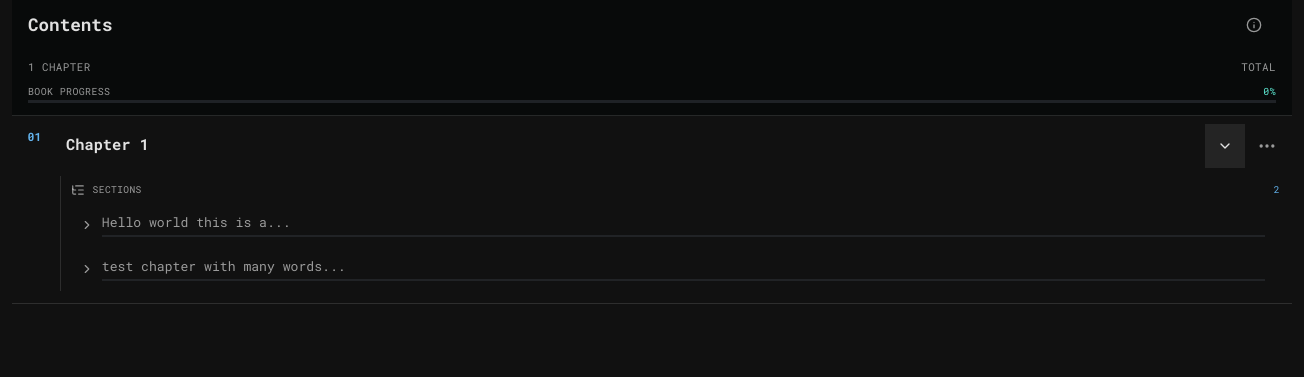
Test case: Sidebar V2 › opens chapter actions without navigating and stages passages in a separate view
Click the button named "More options for Chapter 1": (1267, 146) top-left (1245, 124), bottom-right (1289, 168)
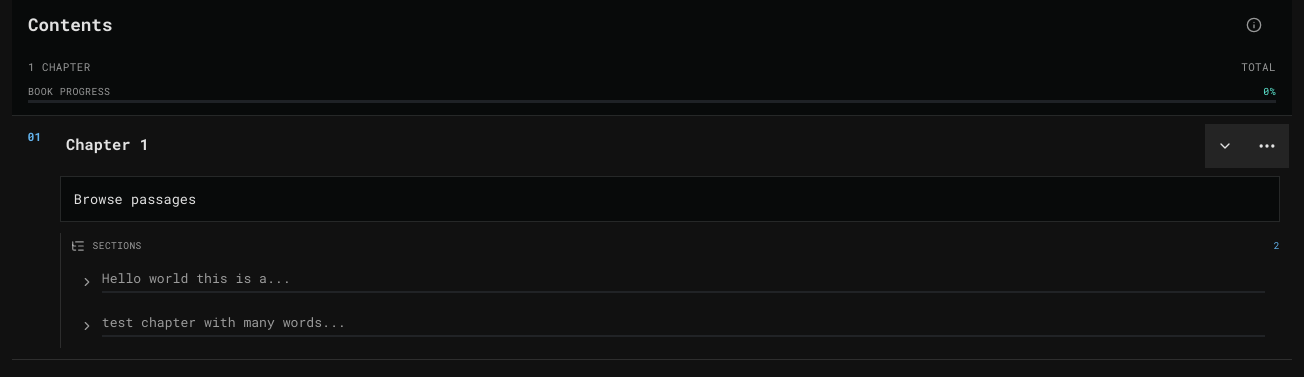
Click the menu item "Browse passages": (135, 199) top-left (61, 177), bottom-right (1279, 221)
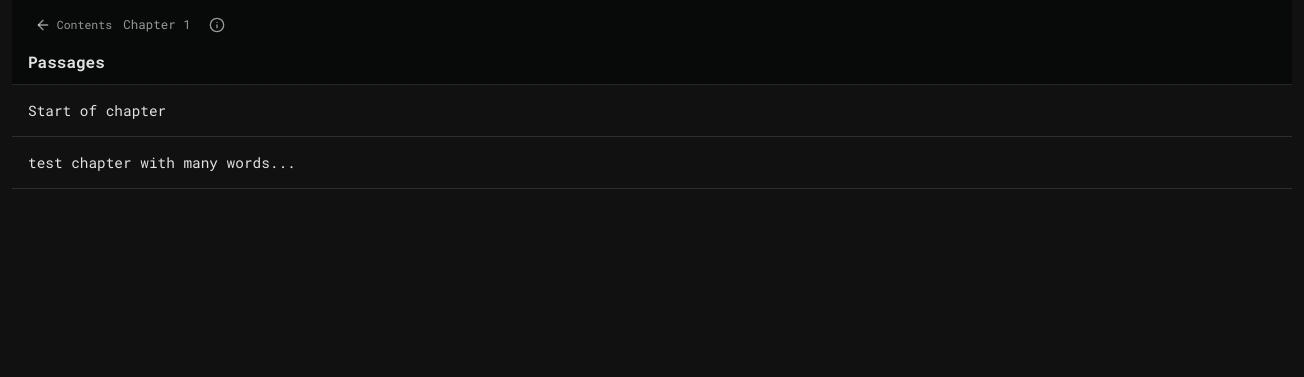
Check: the heading "Passages" is shown, box top-left (28, 51), bottom-right (105, 72)
Check: the button "Start of chapter" is shown, box top-left (12, 85), bottom-right (1292, 137)
Check: the button with test id "sidebar-chapter-button" is gone
